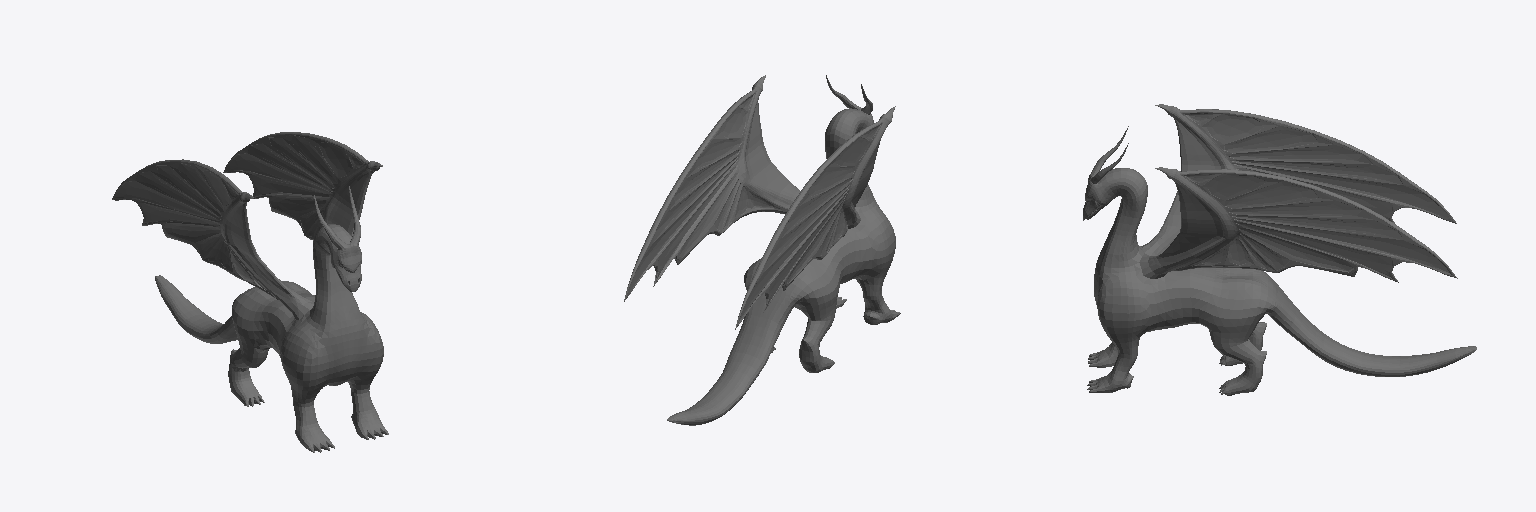
File: dragon-texture.obj
The picture shows the model from 3 angles: view 1: azimuth 30°, elevation 25°; view 2: azimuth 150°, elevation 25°; view 3: azimuth 270°, elevation 25°; orthographic projection.
Parts seen in each view (by area): view 1: Box01_Untitled; view 2: Box01_Untitled; view 3: Box01_Untitled.
Boxes of the visible parts, x1,y1,x2,y2 form: Box01_Untitled: [112, 132, 388, 452]; Box01_Untitled: [624, 75, 900, 425]; Box01_Untitled: [1083, 104, 1476, 395].
Bounding box in the file's own units: 1.99 × 3.36 × 4.91.